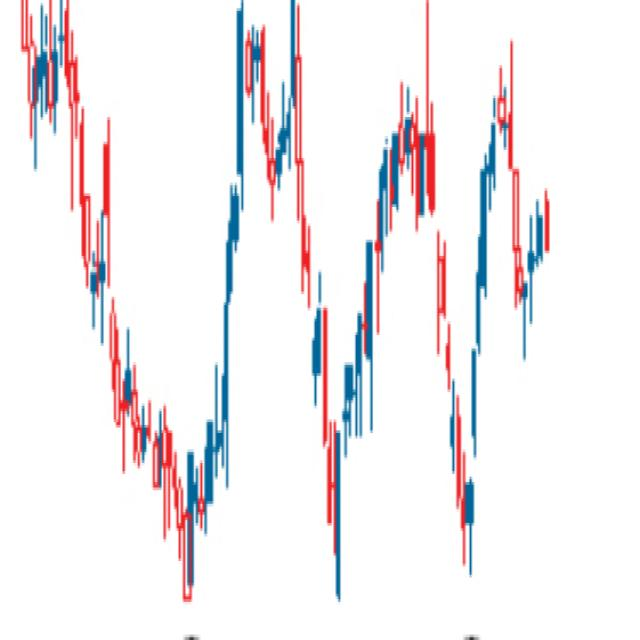Triple-Bottom: (56, 16, 536, 613)
